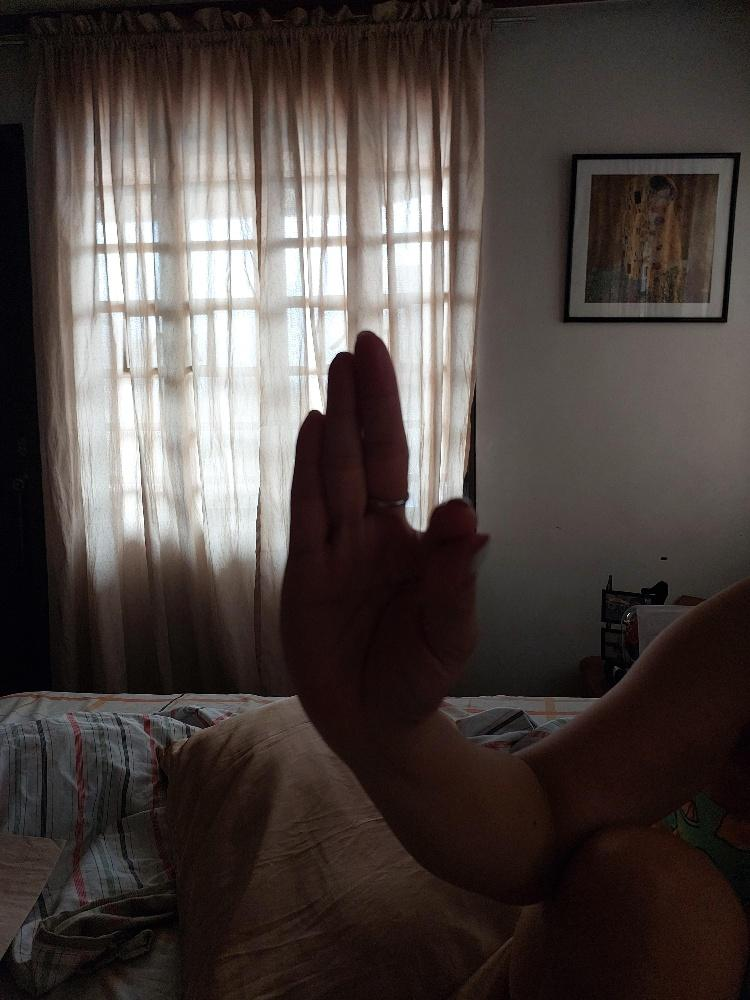f: (273, 325, 494, 743)
